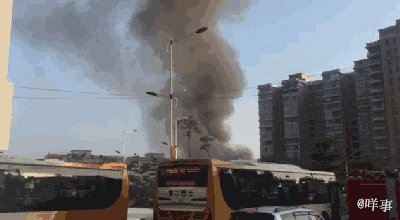smoke: (124, 9, 259, 155)
